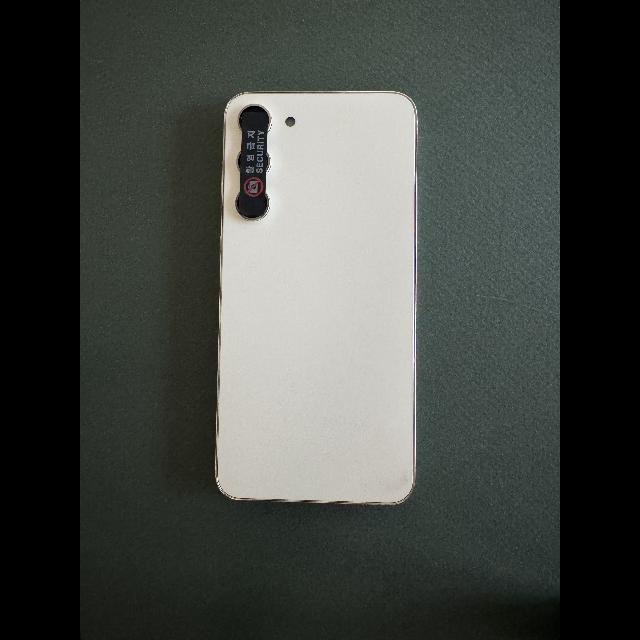lens: (236, 193, 270, 221), (238, 105, 271, 133), (237, 150, 241, 172)
phone: (216, 92, 417, 504)
sticker: (239, 111, 268, 215)
